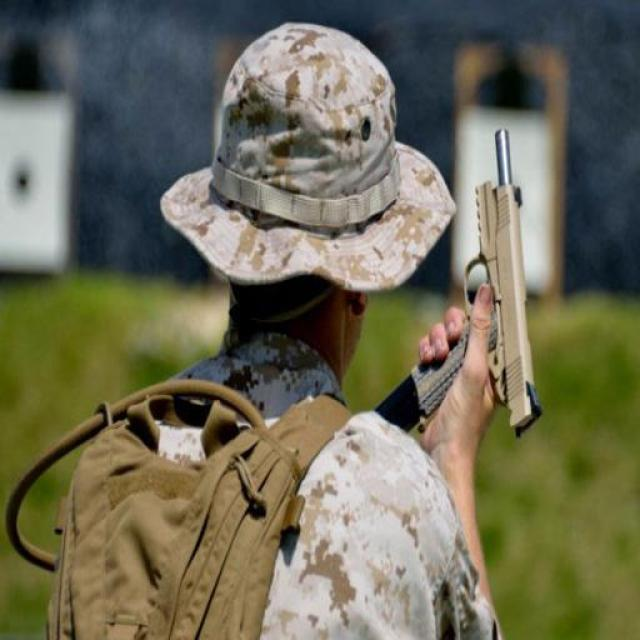pistol: (414, 115, 535, 430)
